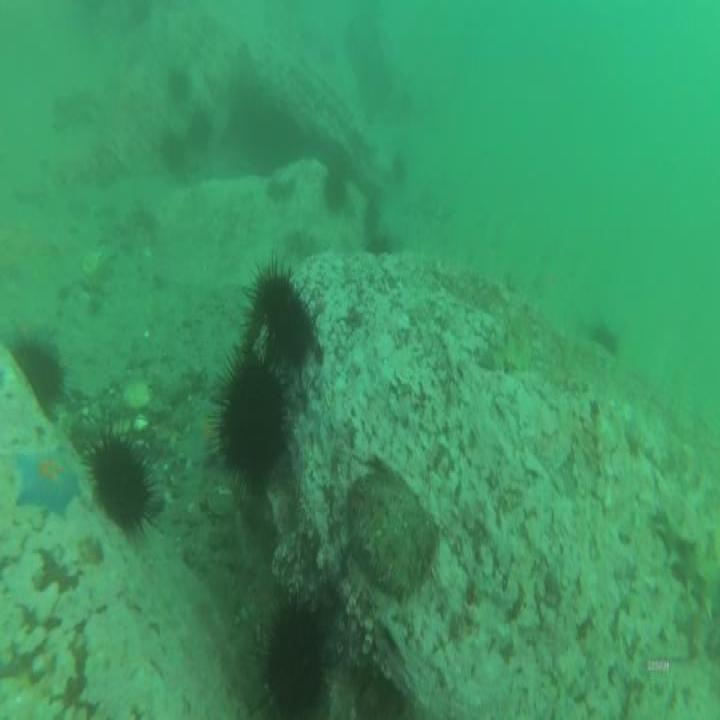echinus: (208, 345, 290, 482), (249, 586, 332, 720), (81, 428, 163, 546), (240, 251, 314, 370), (5, 329, 72, 434), (183, 103, 215, 157), (588, 316, 622, 366), (320, 165, 351, 217), (158, 127, 187, 172), (165, 66, 195, 105), (360, 195, 383, 234), (364, 228, 392, 260), (390, 146, 410, 188)
holothurian: (650, 492, 720, 624), (622, 670, 720, 720), (487, 300, 536, 377)
starfish: (9, 442, 86, 524), (183, 404, 234, 477)
